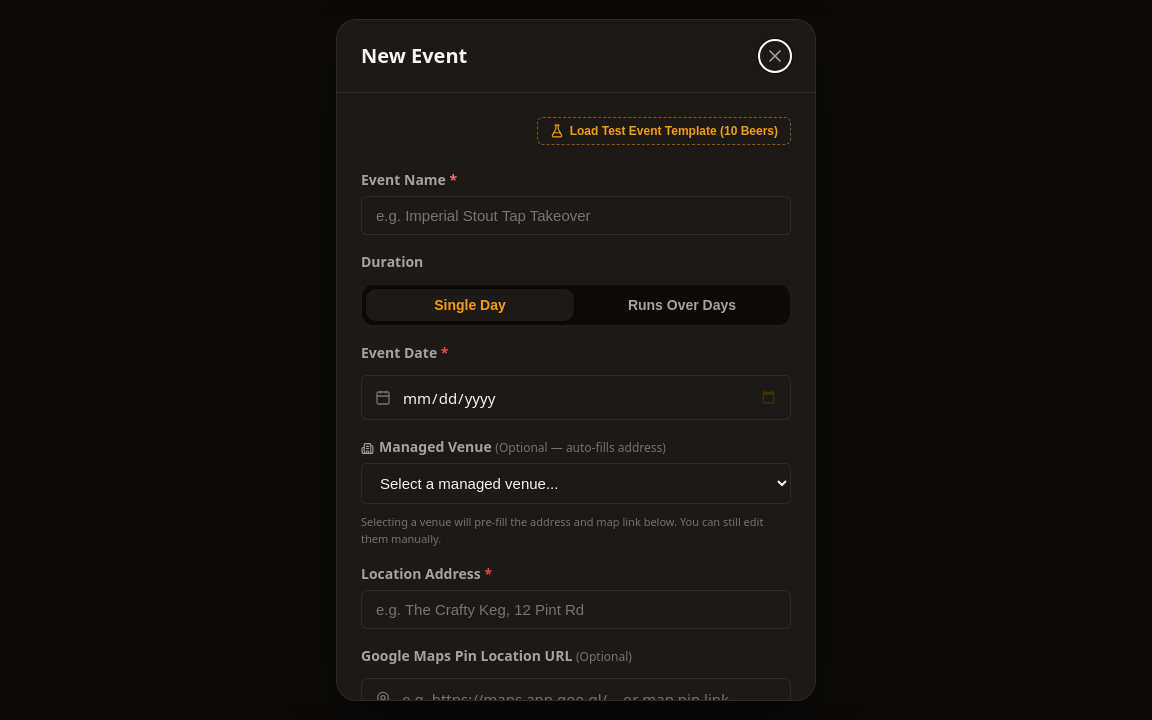
it: EventModal › Managed location selection › populates address and map link when selecting a managed venue from dropdown
// Select "The Rusty Nail Brewhouse"
Select "The Rusty Nail Brewhouse — Portland" in the dropdown labelled "Managed Venue (Optional — auto-fills address)" at {"x": 576, "y": 484}, box [361, 463, 791, 504]
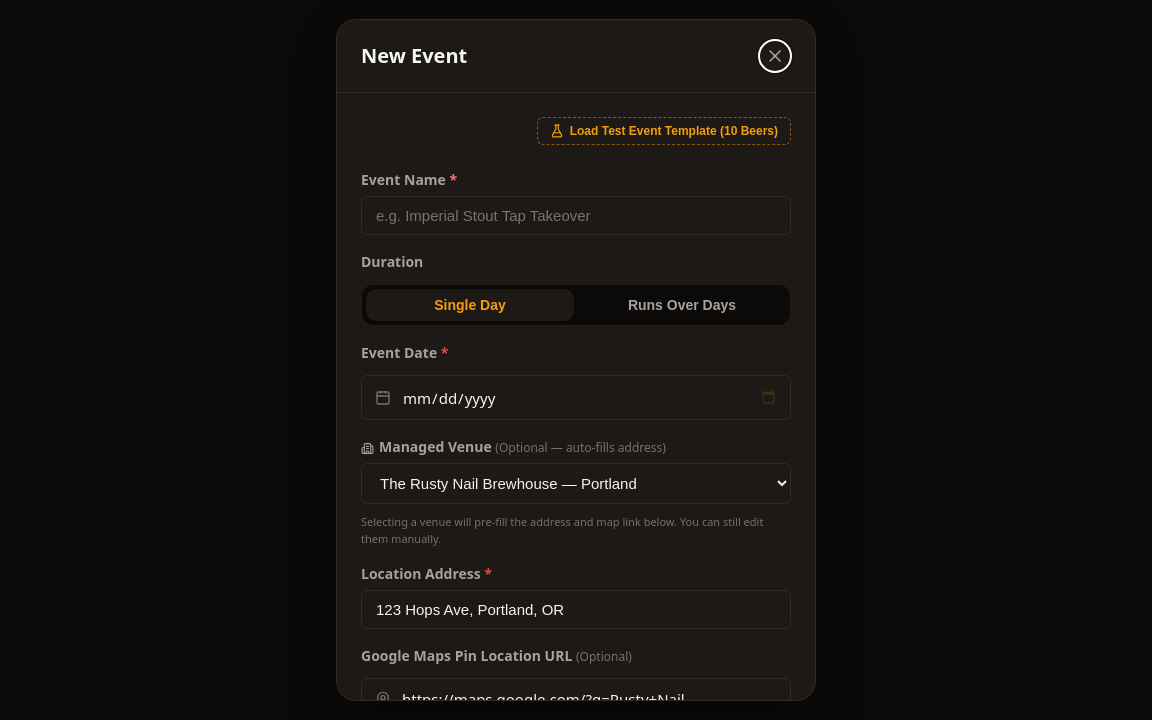
Result: the field labelled "Location Address *" holds "123 Hops Ave, Portland, OR" at [361, 590, 791, 629]
